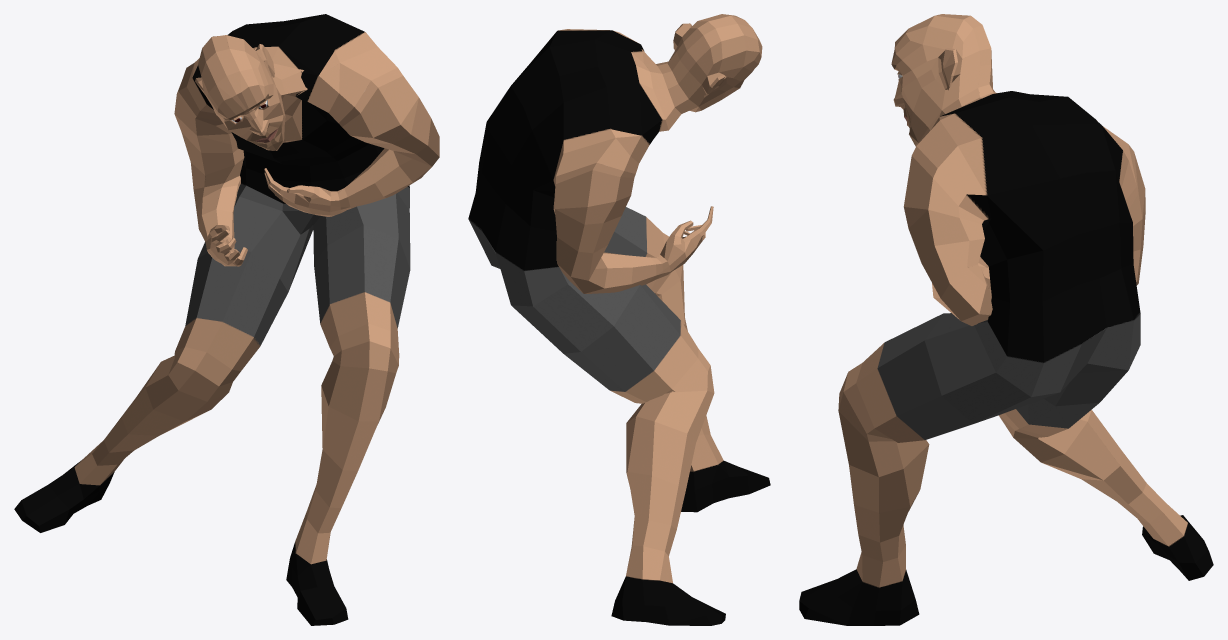
File: PlayerDead(29).obj
3 renders of one model, left to right at view 1: azimuth 30°, elevation 25°; view 2: azimuth 150°, elevation 25°; view 3: azimuth 270°, elevation 25°, orthographic. The views are drawn at different scales.
Parts seen in each view (by area): view 1: Plane002; view 2: Plane002; view 3: Plane002.
Part boxes in pixels (bbox=[...]): Plane002: bbox=[14, 14, 439, 625]; Plane002: bbox=[468, 14, 770, 625]; Plane002: bbox=[799, 14, 1213, 625].
Size of the model in its own units: 802 by 1318 by 857.
